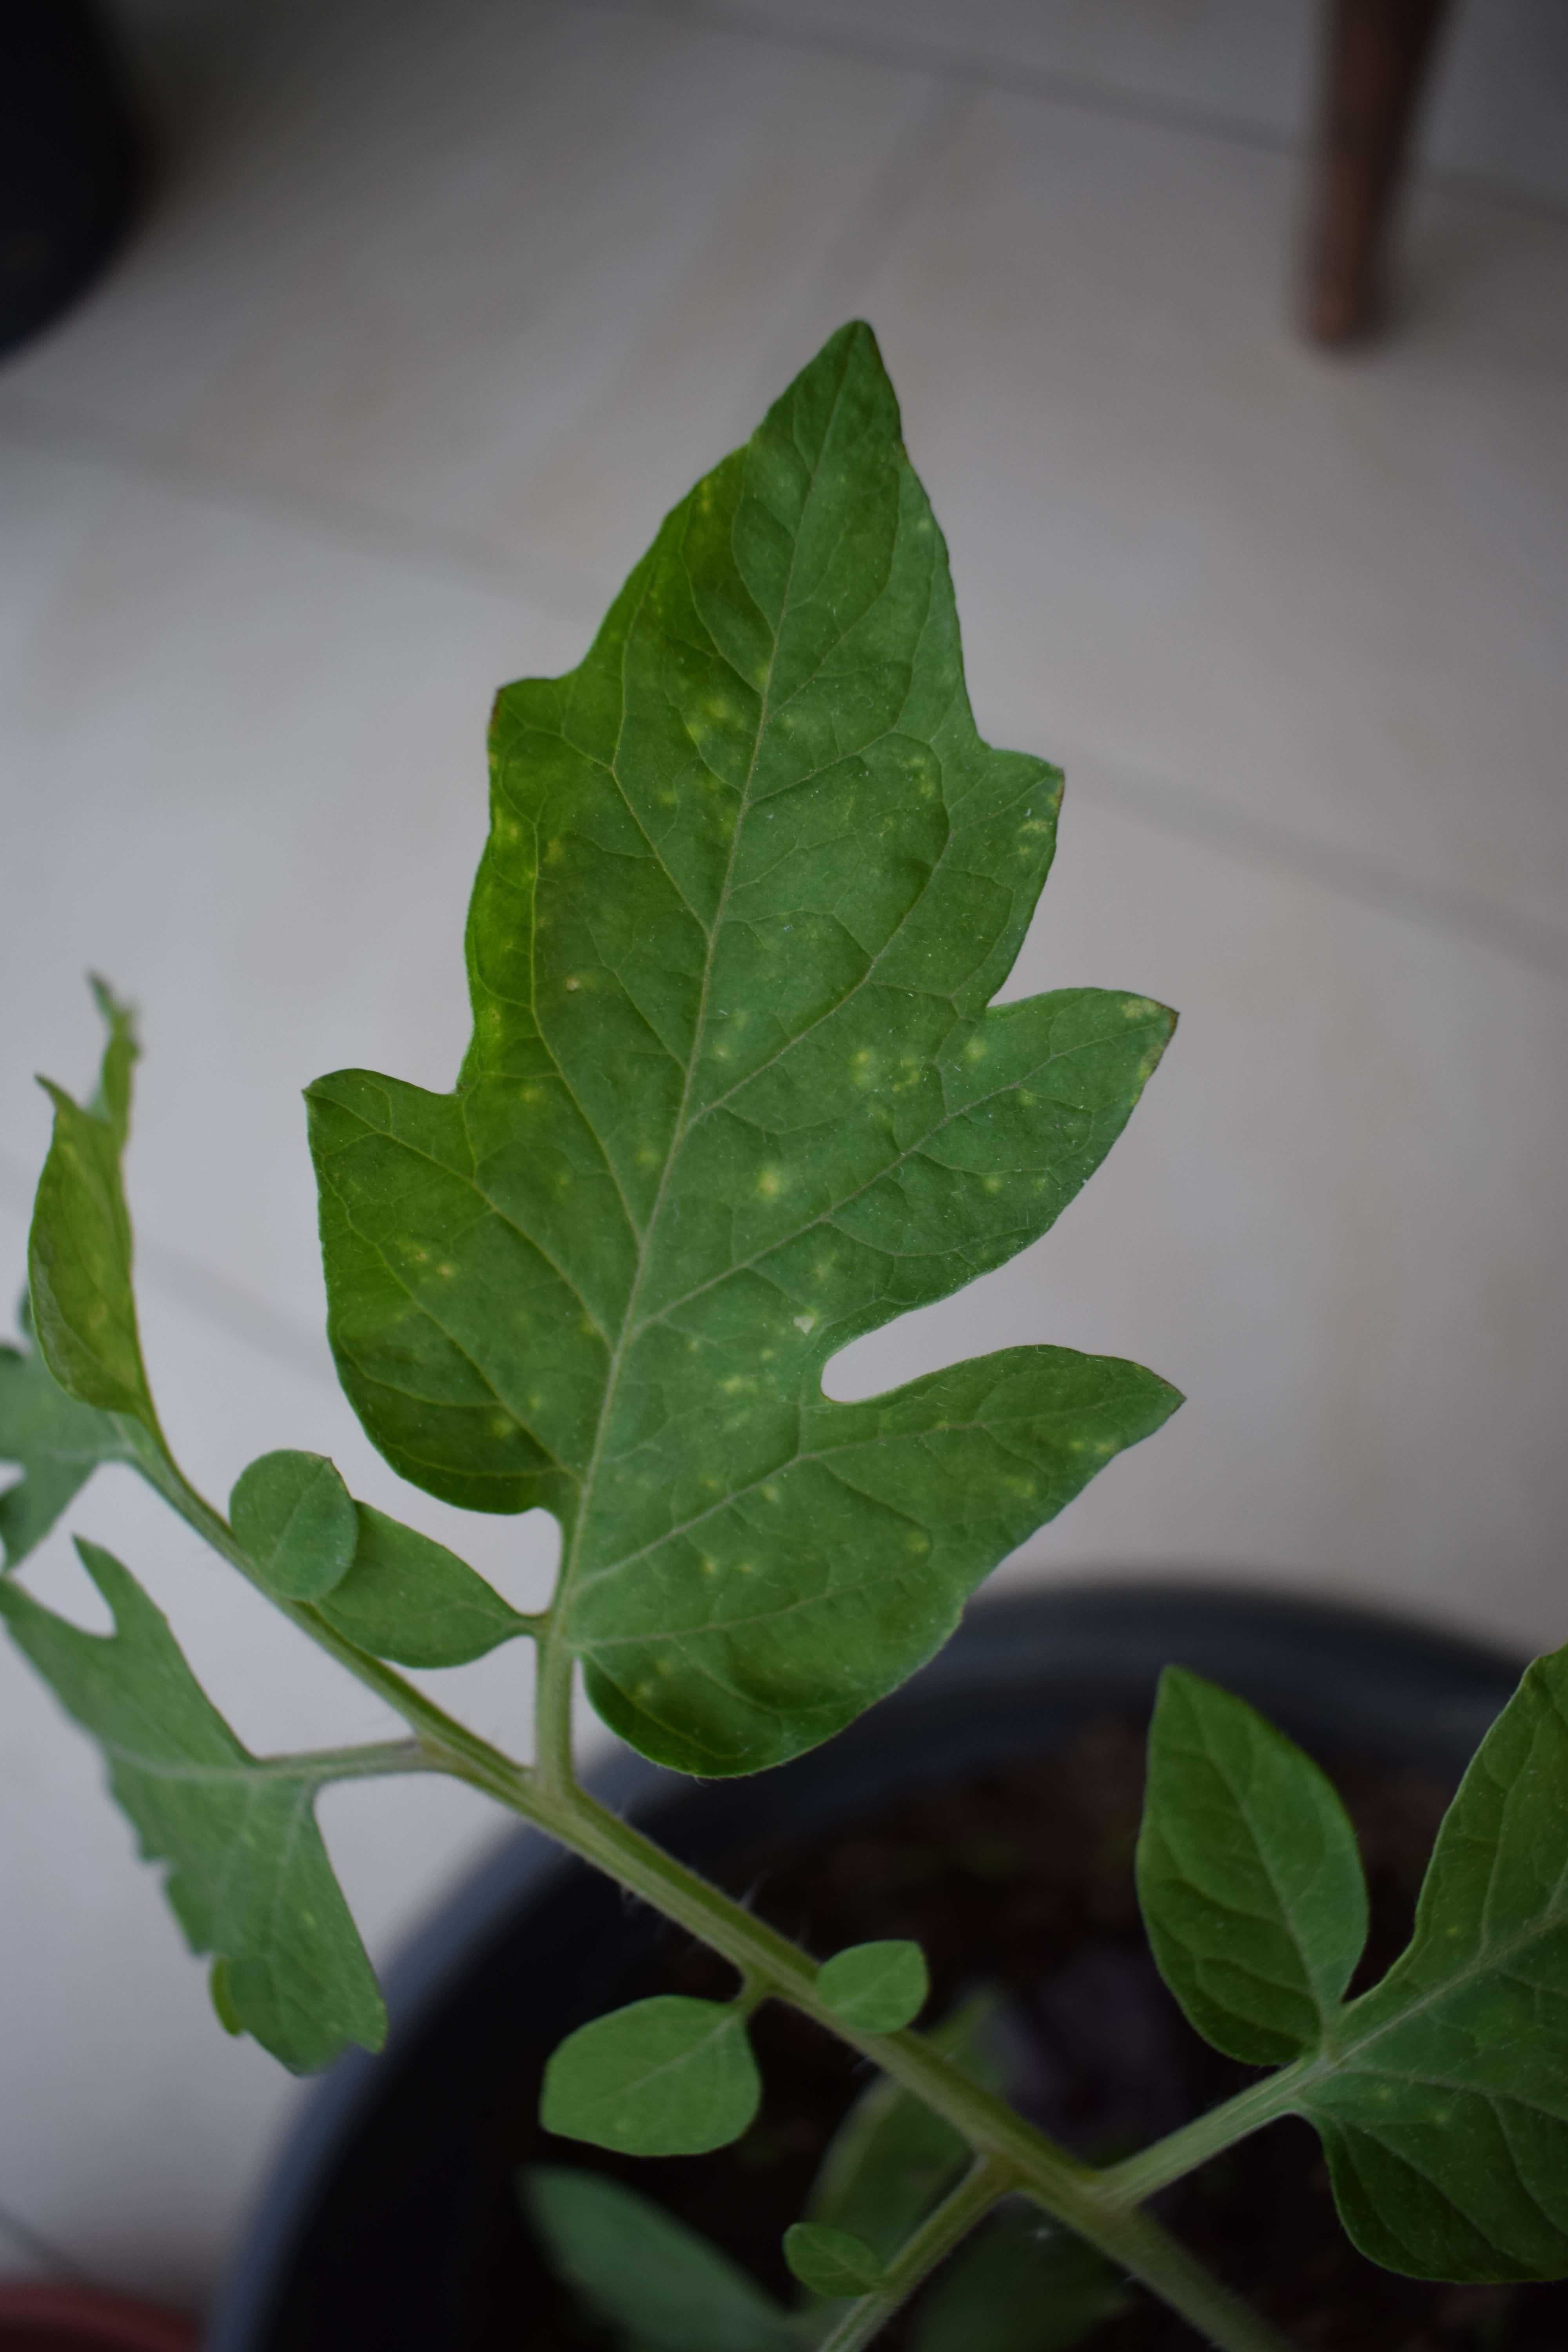Tomato mold leaf: (290, 256, 1209, 1769)
